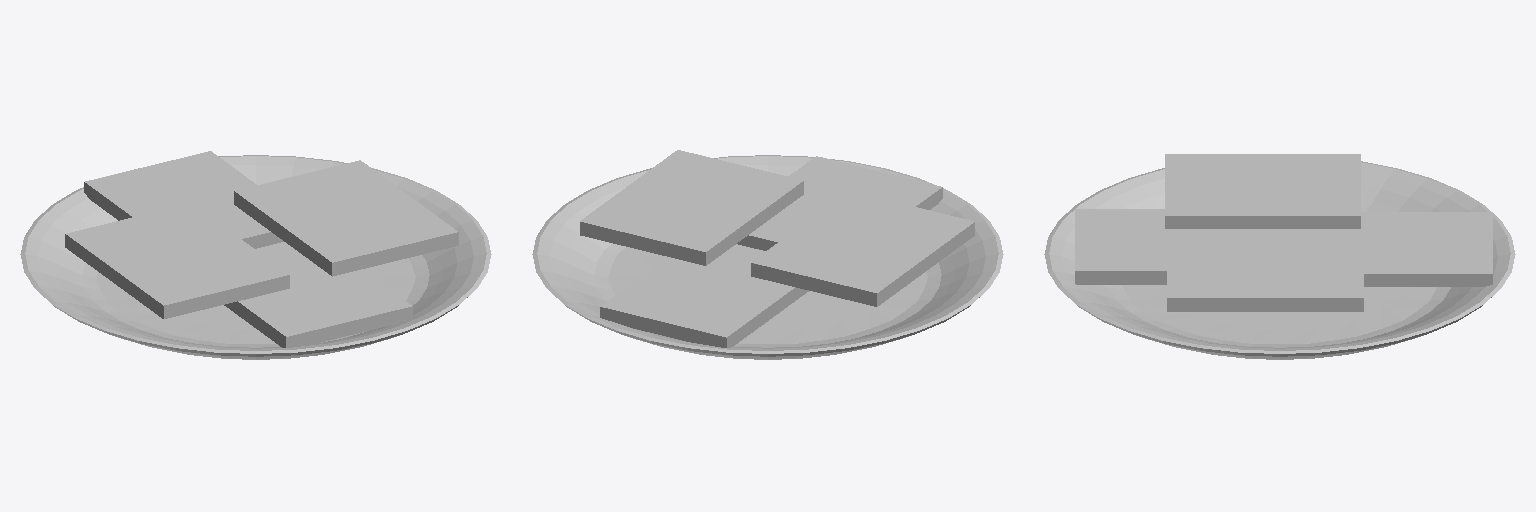
File: AGAR BUSA BUSA.obj
3 renders of one model, left to right at view 1: azimuth 30°, elevation 25°; view 2: azimuth 150°, elevation 25°; view 3: azimuth 270°, elevation 25°, orthographic.
Parts seen in each view (by area): view 1: Cylinder, Cube.016_Cube.029, Cube.013, Cube.014_Cube.027, Cube.011_Cube.004, Cube.012_Cube.005, Cube.015_Cube.028, Cube.010_Cube.003, Cube.009_Cube.026, Cube.003_Cube.020, Cube.007_Cube.024, Cube.008_Cube.025 (+5 smaller); view 2: Cylinder, Cube.016_Cube.029, Cube.013, Cube.014_Cube.027, Cube.011_Cube.004, Cube.012_Cube.005, Cube.015_Cube.028, Cube.003_Cube.020, Cube.010_Cube.003, Cube.009_Cube.026, Cube.004_Cube.021, Cube.002_Cube.019 (+5 smaller); view 3: Cylinder, Cube.013, Cube.014_Cube.027, Cube.016_Cube.029, Cube.011_Cube.004, Cube.015_Cube.028, Cube.012_Cube.005, Cube.002_Cube.019, Cube.004_Cube.021, Cube.009_Cube.026, Cube.003_Cube.020, Cube.010_Cube.003 (+5 smaller).
Part boxes in pixels (left/top/right/bottom): Cylinder: left=20, top=155, right=491, bottom=359; Cube.016_Cube.029: left=318, top=160, right=457, bottom=242; Cube.013: left=149, top=203, right=289, bottom=284; Cube.014_Cube.027: left=235, top=181, right=374, bottom=262; Cube.011_Cube.004: left=66, top=224, right=204, bottom=305; Cube.012_Cube.005: left=108, top=214, right=245, bottom=294; Cube.015_Cube.028: left=277, top=171, right=414, bottom=251; Cube.010_Cube.003: left=65, top=234, right=289, bottom=318; Cube.009_Cube.026: left=234, top=191, right=458, bottom=276; Cube.003_Cube.020: left=127, top=162, right=264, bottom=238; Cube.007_Cube.024: left=255, top=245, right=368, bottom=326; Cube.008_Cube.025: left=272, top=242, right=411, bottom=316; Cylinder: left=532, top=155, right=1003, bottom=359; Cube.016_Cube.029: left=580, top=150, right=720, bottom=231; Cube.013: left=751, top=191, right=891, bottom=272; Cube.014_Cube.027: left=664, top=170, right=803, bottom=251; Cube.011_Cube.004: left=835, top=211, right=974, bottom=292; Cube.012_Cube.005: left=795, top=201, right=931, bottom=282; Cube.015_Cube.028: left=624, top=160, right=760, bottom=241; Cube.003_Cube.020: left=644, top=246, right=765, bottom=326; Cube.010_Cube.003: left=751, top=222, right=974, bottom=306; Cube.009_Cube.026: left=580, top=181, right=803, bottom=265; Cube.004_Cube.021: left=601, top=244, right=741, bottom=316; Cube.002_Cube.019: left=685, top=277, right=794, bottom=337; Cylinder: left=1044, top=161, right=1515, bottom=359; Cube.013: left=1165, top=194, right=1360, bottom=215; Cube.014_Cube.027: left=1167, top=236, right=1363, bottom=256; Cube.016_Cube.029: left=1167, top=277, right=1363, bottom=297; Cube.011_Cube.004: left=1165, top=154, right=1360, bottom=174; Cube.015_Cube.028: left=1167, top=257, right=1363, bottom=276; Cube.012_Cube.005: left=1165, top=175, right=1360, bottom=193; Cube.002_Cube.019: left=1297, top=212, right=1492, bottom=232; Cube.004_Cube.021: left=1364, top=252, right=1492, bottom=273; Cube.009_Cube.026: left=1167, top=298, right=1363, bottom=311; Cube.003_Cube.020: left=1297, top=233, right=1492, bottom=251; Cube.010_Cube.003: left=1165, top=216, right=1360, bottom=228.
Bounding box in the file's own units: 2.31 × 0.3181 × 2.31.